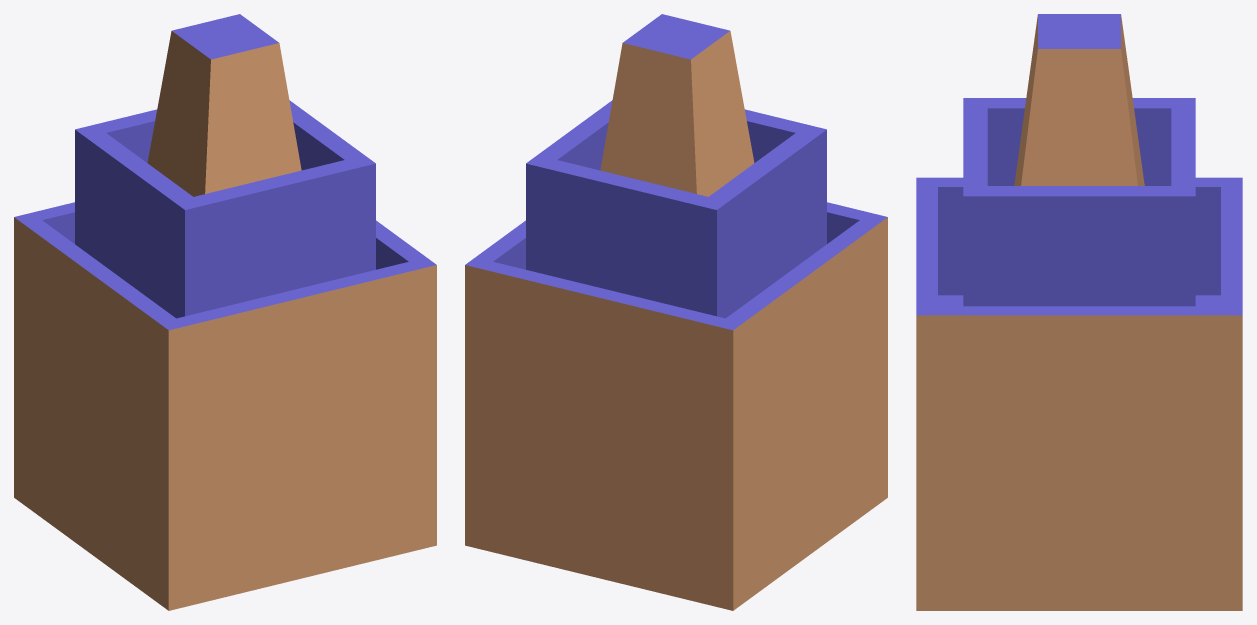
3 views of the same model, side by side, from view 1: azimuth 30°, elevation 25°; view 2: azimuth 150°, elevation 25°; view 3: azimuth 270°, elevation 25° (orthographic). The views are drawn at different scales.
Parts seen in each view (by area): view 1: Cube; view 2: Cube; view 3: Cube.
Part boxes in pixels (x1,y1,x2,y2): Cube: (14, 14, 436, 610); Cube: (465, 14, 887, 610); Cube: (916, 14, 1242, 610).
Bounding box in the file's own units: 2 × 3.46 × 2.
